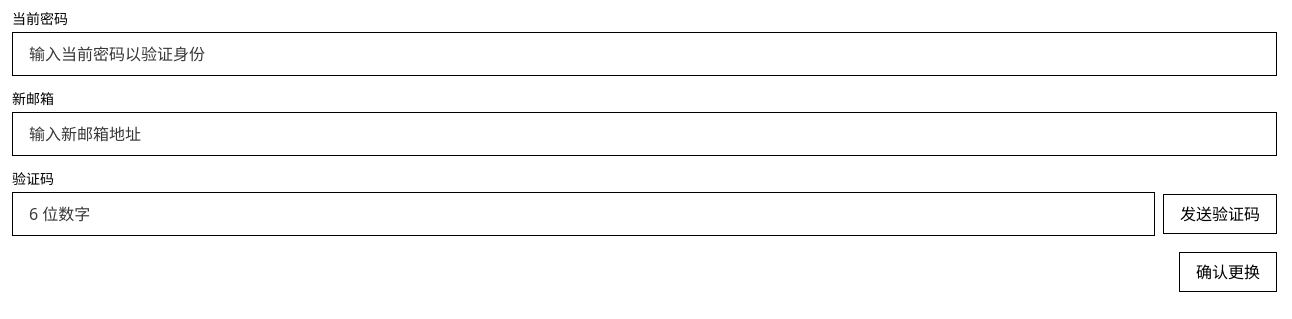
验证码错误 40001 映射到输入框，保留邮箱和验证码
The width and height of the screenshot is (1292, 319).
Type "CurrentPass123" into the password field with id "change-old-password". click: {"x": 644, "y": 54}
box: 12,32 -> 1277,76
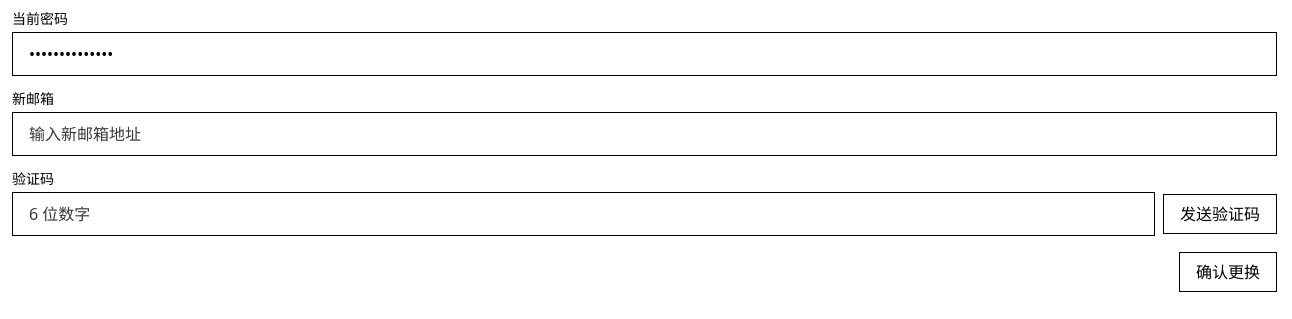
Type "new@example.com" into the field with id "new-email". click: {"x": 644, "y": 134}
box: 12,112 -> 1277,156
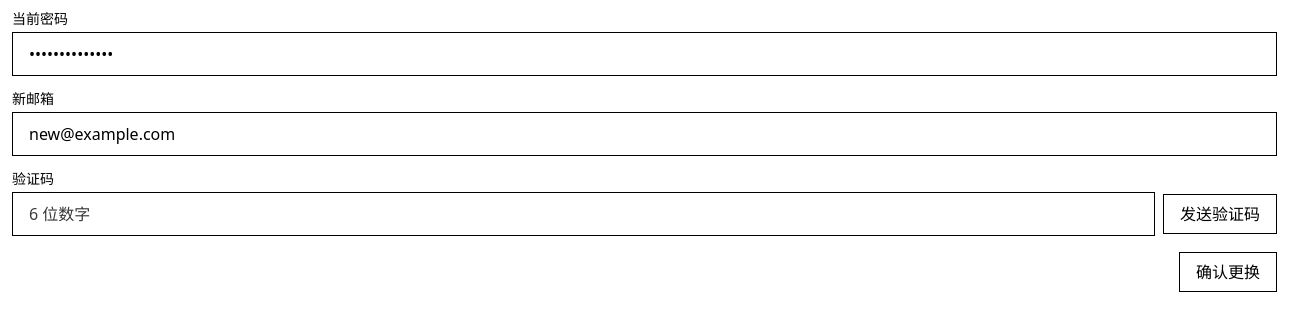
Click the button "发送验证码". click: {"x": 1220, "y": 214}
box: 1163,194 -> 1277,234
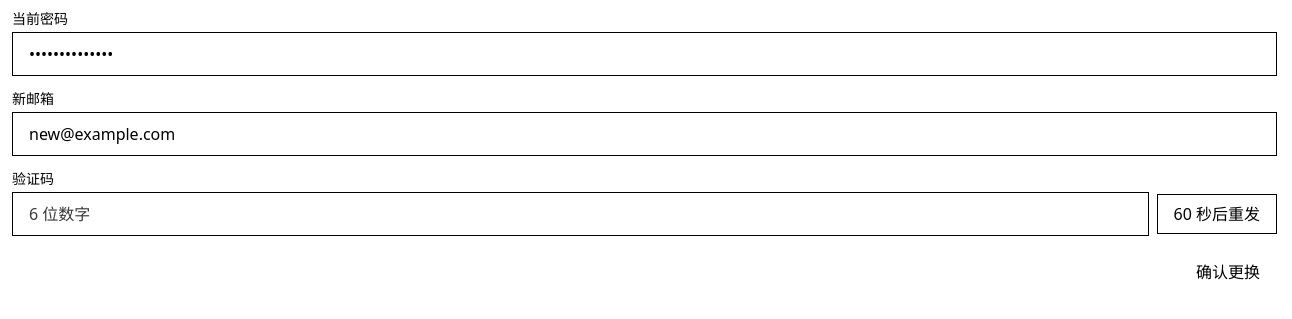
expect the button "确认更换" is enabled: met, box 1179,252 -> 1277,292
Type "123456" into the field with id "email-code". click: {"x": 580, "y": 214}
box: 12,192 -> 1148,236
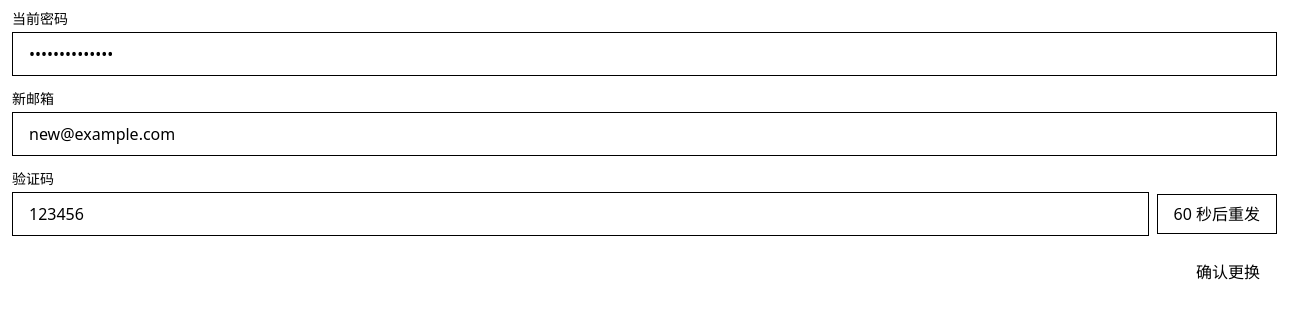
Click the button "确认更换". click: {"x": 1228, "y": 272}
box: 1179,252 -> 1277,292
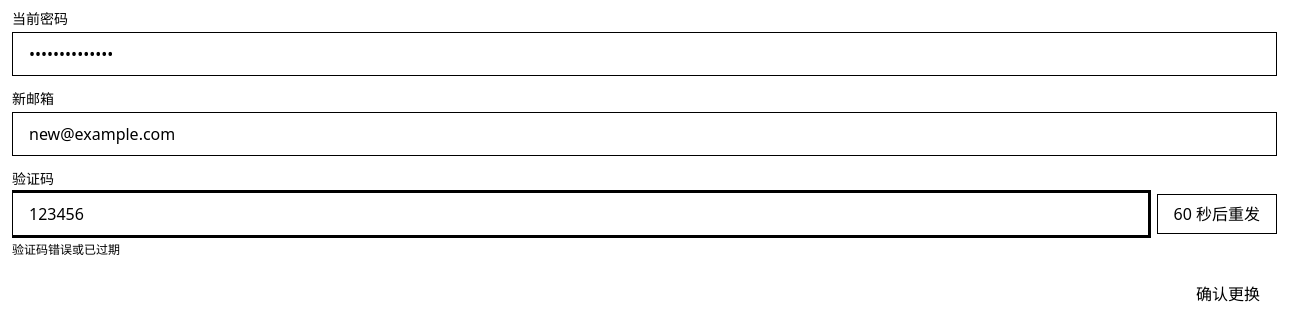
expect the text "验证码错误或已过期" is shown: met, box 12,241 -> 120,258
